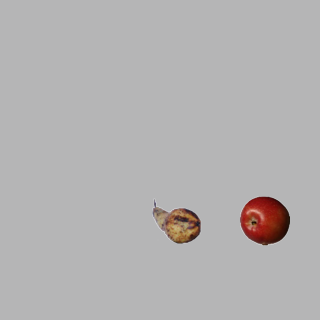Apple Braeburn: (239, 195, 289, 245)
Pear Abate: (151, 196, 201, 246)
